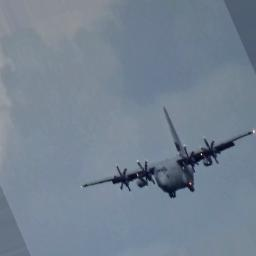Airplane: (81, 108, 256, 199)
